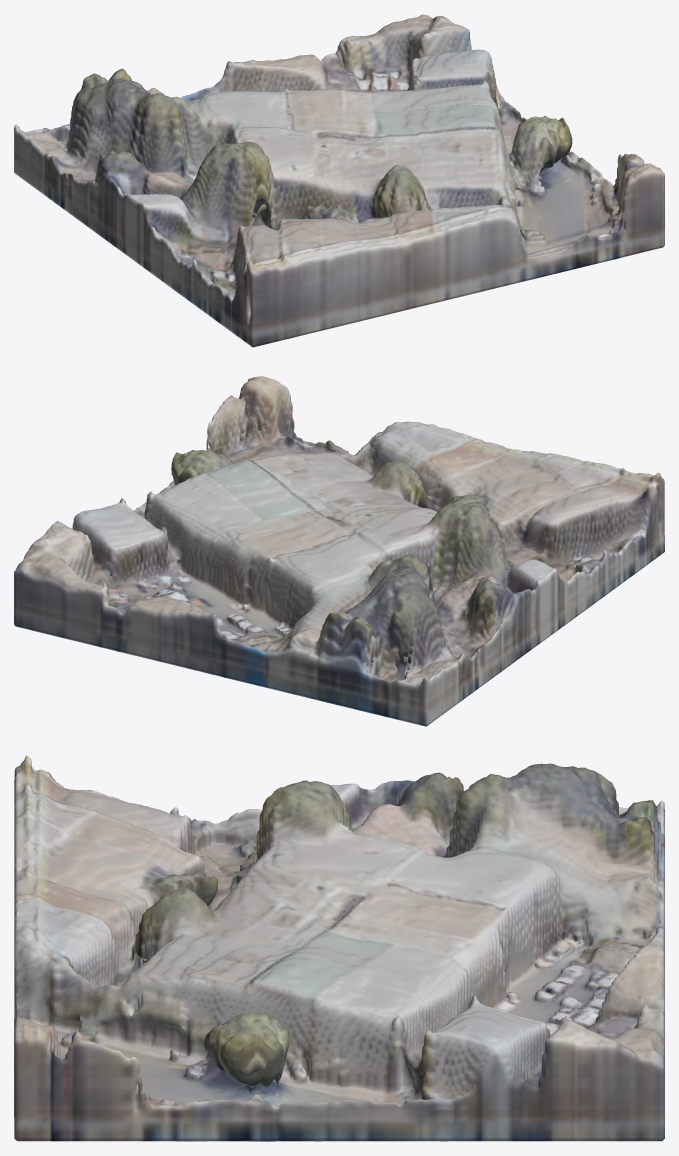
Rendered from niamey_sat3dgen.glb.
The picture shows the model from 3 angles, top to bottom: view 1: azimuth 30°, elevation 25°; view 2: azimuth 150°, elevation 25°; view 3: azimuth 270°, elevation 25°; orthographic projection. The views are drawn at different scales.
Parts seen in each view (by area): view 1: mesh.obj; view 2: mesh.obj; view 3: mesh.obj.
Part boxes in pixels (bbox=[...]): mesh.obj: bbox=[14, 14, 664, 347]; mesh.obj: bbox=[14, 376, 664, 726]; mesh.obj: bbox=[14, 755, 664, 1141].
Bounding box in the file's own units: 1.61 × 0.3962 × 1.61.
